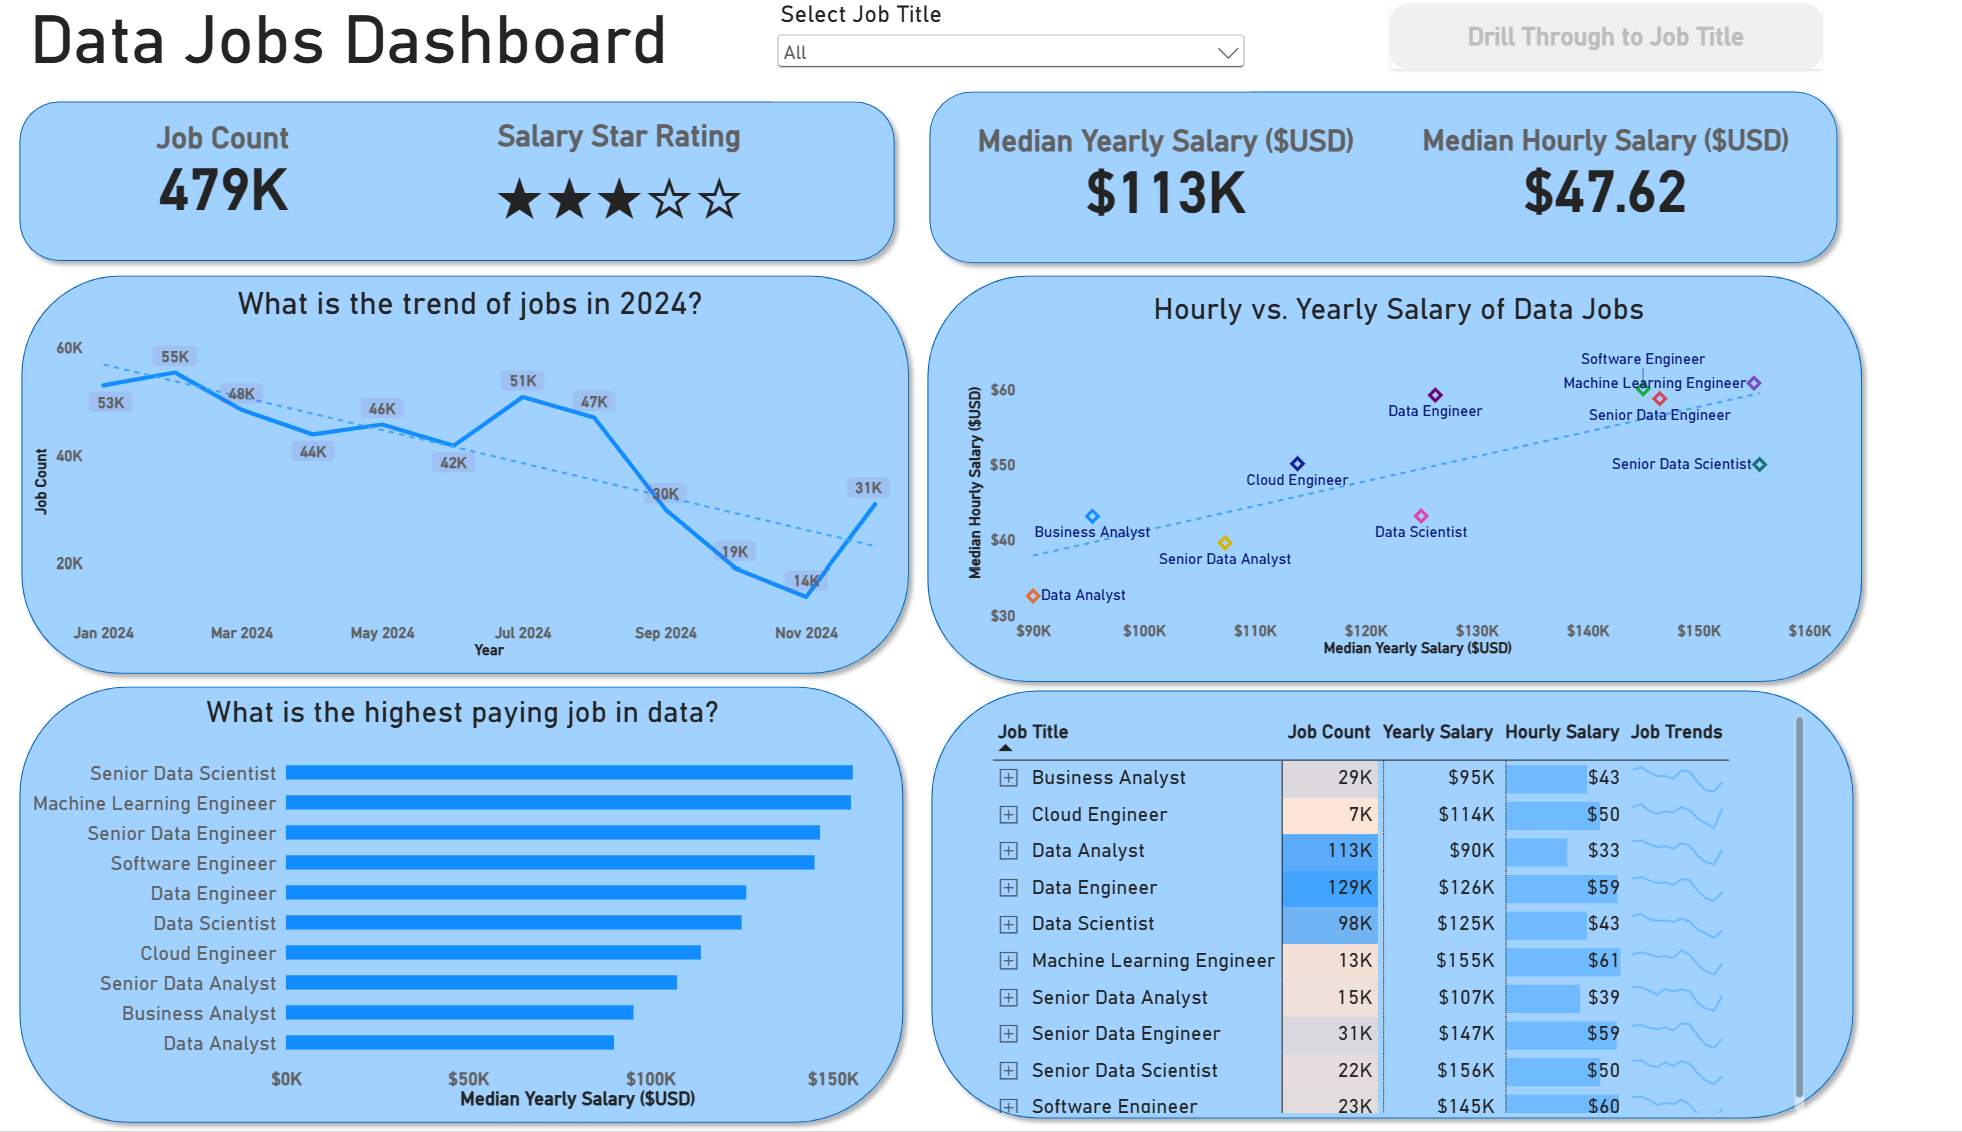

Layout of this report page (visuals, bound fields, positions):
{"tool":"powerbi","page":{"name":"Data Jobs Dashboard","canvas":[1920,1080],"ordinal":0},"visuals":[{"type":"group","id":"g1","title":"Background","box":[15.3,79.1,1780.9,1002.6],"z":0},{"type":"shape","box":[15.7,88.7,854.9,170.6],"z":0,"group":"g1"},{"type":"textbox","box":[35.3,0,674.5,127.5],"z":1000},{"type":"shape","box":[886.3,79.1,886.3,182.4],"z":1000,"group":"g1"},{"type":"slicer","fields":{"Values":["job_postings_flat.job_title_short"]},"box":[744.4,0,457.1,73],"z":2000},{"type":"shape","box":[886.5,651.2,899.8,427.3],"z":2000,"group":"g1"},{"type":"shape","box":[884.4,254.9,911.8,405.9],"z":3000,"group":"g1"},{"type":"cardVisual","fields":{"Data":["Median(job_postings_flat.salary_hour_avg)"]},"box":[1333.3,88.2,417,156.6],"z":4000},{"type":"shape","box":[15.3,646.5,863.3,435.3],"z":4000,"group":"g1"},{"type":"shape","box":[17.8,254.9,866.7,398],"z":5000,"group":"g1"},{"type":"lineChart","title":"What is the trend of jobs in 2024?","fields":{"Category":["job_postings_flat.job_posted_date.Variation.Date Hierarchy.Year","job_postings_flat.job_posted_date.Variation.Date Hierarchy.Month"],"Y":["CountNonNull(job_postings_flat.job_title_short)"]},"box":[21.6,258.8,868.6,386.3],"z":5000},{"type":"barChart","title":"What is the highest paying job in data?","fields":{"Category":["job_postings_flat.job_title_short"],"Y":["Median(job_postings_flat.salary_year_avg)"]},"box":[19.6,649,858.7,427],"z":6000},{"type":"scatterChart","title":"Hourly vs. Yearly Salary of Data Jobs","fields":{"Series":["job_postings_flat.job_title_short"],"X":["Median(job_postings_flat.salary_year_avg)"],"Y":["Median(job_postings_flat.salary_hour_avg)"]},"box":[913.7,264.7,858.8,378.4],"z":7000},{"type":"pivotTable","fields":{"Rows":["job_postings_flat.job_title_short","job_postings_flat.job_posted_date.Variation.Date Hierarchy.Quarter"],"Values":["CountNonNull(job_postings_flat.job_title_short)","Median(job_postings_flat.salary_year_avg)","Median(job_postings_flat.salary_hour_avg)","SparklineData(CountNonNull(job_postings_flat.job_title_short)_[job_postings_flat.job_posted_date.Variation.Date Hierarch"]},"box":[939.7,669.8,807.9,409.5],"z":8000},{"type":"cardVisual","fields":{"Data":["job_postings_flat.Salary Star Rating"]},"box":[405.9,96.1,385.7,147.6],"z":9000},{"type":"cardVisual","fields":{"Data":["CountNonNull(job_postings_flat.job_title_short)"]},"box":[35.3,96.1,369.8,136.5],"z":10000},{"type":"actionButton","box":[1334,3.8,413.2,62.3],"z":10001},{"type":"cardVisual","fields":{"Data":["Median(job_postings_flat.salary_year_avg)"]},"box":[911.8,88.2,417,156.6],"z":10002}]}

Visuals, with their boxes in screenshot pixels (x1, y1, x2, y2), scaled from the page's 1920x1080 canvas onto the 1962x1132 screenshot:
"Background" group: l=16, t=83, r=1835, b=1131
shape: l=16, t=93, r=890, b=272
textbox: l=36, t=0, r=725, b=134
shape: l=906, t=83, r=1811, b=274
slicer - job_postings_flat.job_title_short: l=761, t=0, r=1228, b=77
shape: l=906, t=683, r=1825, b=1130
shape: l=904, t=267, r=1835, b=693
cardVisual - Median(job_postings_flat.salary_hour_avg): l=1362, t=92, r=1789, b=257
shape: l=16, t=678, r=898, b=1131
shape: l=18, t=267, r=904, b=684
"What is the trend of jobs in 2024?" lineChart: l=22, t=271, r=910, b=676
"What is the highest paying job in data?" barChart: l=20, t=680, r=898, b=1128
"Hourly vs. Yearly Salary of Data Jobs" scatterChart: l=934, t=277, r=1811, b=674
pivotTable - job_postings_flat.job_title_short x job_postings_flat.job_posted_date.Variation.Date Hierarchy.Quarter: l=960, t=702, r=1786, b=1131
cardVisual - job_postings_flat.Salary Star Rating: l=415, t=101, r=809, b=255
cardVisual - CountNonNull(job_postings_flat.job_title_short): l=36, t=101, r=414, b=244
actionButton: l=1363, t=4, r=1785, b=69
cardVisual - Median(job_postings_flat.salary_year_avg): l=932, t=92, r=1358, b=257
